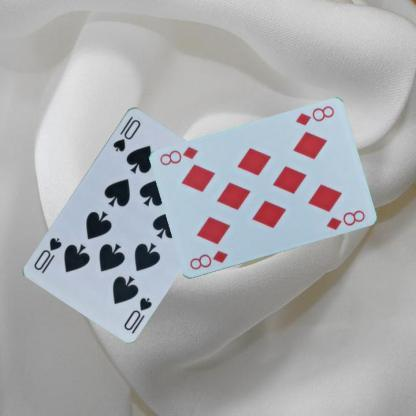10s: (110, 113, 142, 153), (121, 294, 154, 332)
8d: (186, 247, 228, 272), (293, 103, 335, 128)
